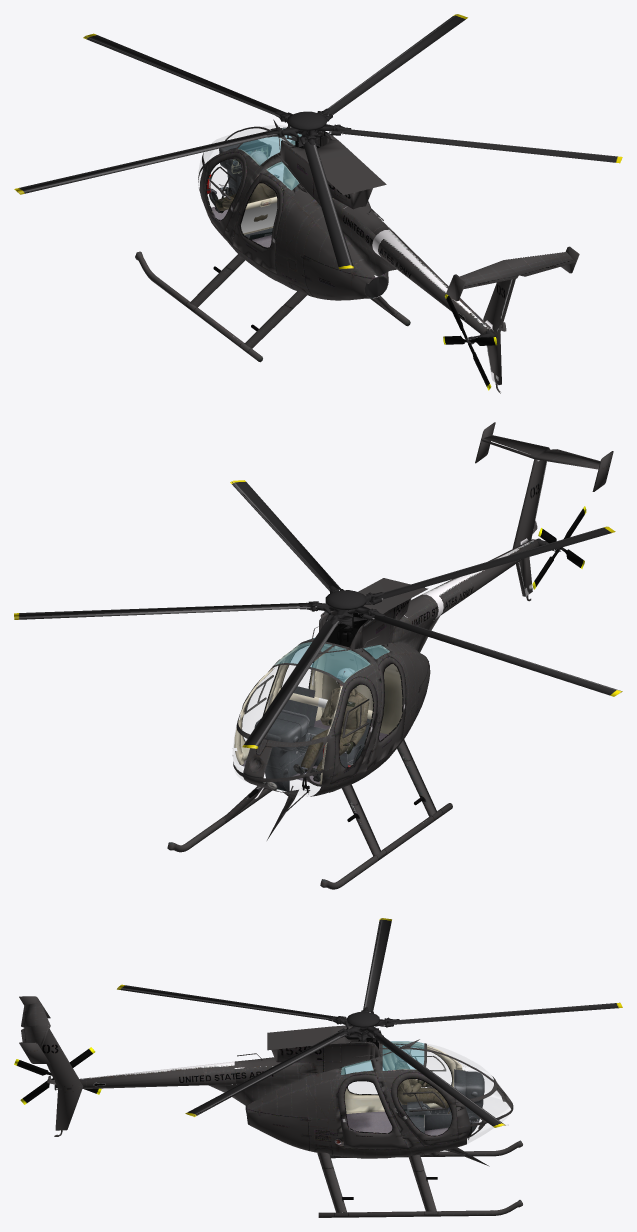
3 views of the same model, one above another, from view 1: azimuth 30°, elevation 25°; view 2: azimuth 150°, elevation 25°; view 3: azimuth 270°, elevation 25° (orthographic). The views are drawn at different scales.
Parts seen in each view (by area): view 1: ext_fuse1, rotor_main, ext_fuse1_doors, ext_skids, glasss_grn, int_seats2, int_console, int_pilotR, rotor_tail; view 2: ext_fuse1, rotor_main, ext_fuse1_doors, ext_skids, int_fuse5, int_pilotR, int_console, glasss_grn, int_seats2, glass, rotor_tail; view 3: ext_fuse1, rotor_main, ext_fuse1_doors, ext_skids, glass, int_console, int_pilotR, glasss_grn, int_fuse4, rotor_tail, int_seats2.
Part boxes in pixels (x1,y1,x2,y2): ext_fuse1: [198, 119, 579, 393]; rotor_main: [14, 14, 622, 269]; ext_fuse1_doors: [204, 152, 298, 273]; ext_skids: [135, 251, 410, 362]; glasss_grn: [238, 128, 301, 190]; int_seats2: [241, 195, 333, 239]; int_console: [206, 139, 271, 194]; int_pilotR: [209, 150, 276, 221]; rotor_tail: [443, 294, 497, 390]; ext_fuse1: [232, 422, 613, 840]; rotor_main: [14, 480, 622, 748]; ext_fuse1_doors: [240, 645, 406, 783]; ext_skids: [167, 739, 452, 889]; int_fuse5: [321, 646, 402, 734]; int_pilotR: [293, 668, 369, 781]; int_console: [254, 709, 324, 791]; glasss_grn: [274, 638, 389, 682]; int_seats2: [278, 686, 372, 767]; glass: [233, 665, 310, 781]; rotor_tail: [532, 506, 586, 589]; ext_fuse1: [19, 996, 513, 1166]; rotor_main: [117, 918, 622, 1127]; ext_fuse1_doors: [338, 1045, 458, 1149]; ext_skids: [317, 1140, 522, 1217]; glass: [348, 1044, 509, 1143]; int_console: [424, 1069, 484, 1132]; int_pilotR: [394, 1043, 449, 1108]; glasss_grn: [341, 1041, 424, 1074]; int_fuse4: [346, 1107, 448, 1135]; rotor_tail: [14, 1047, 101, 1104]; int_seats2: [398, 1098, 431, 1133].
Size of the model in its own units: 7.48 by 2.89 by 9.2.
11 materials, 11 textured.
